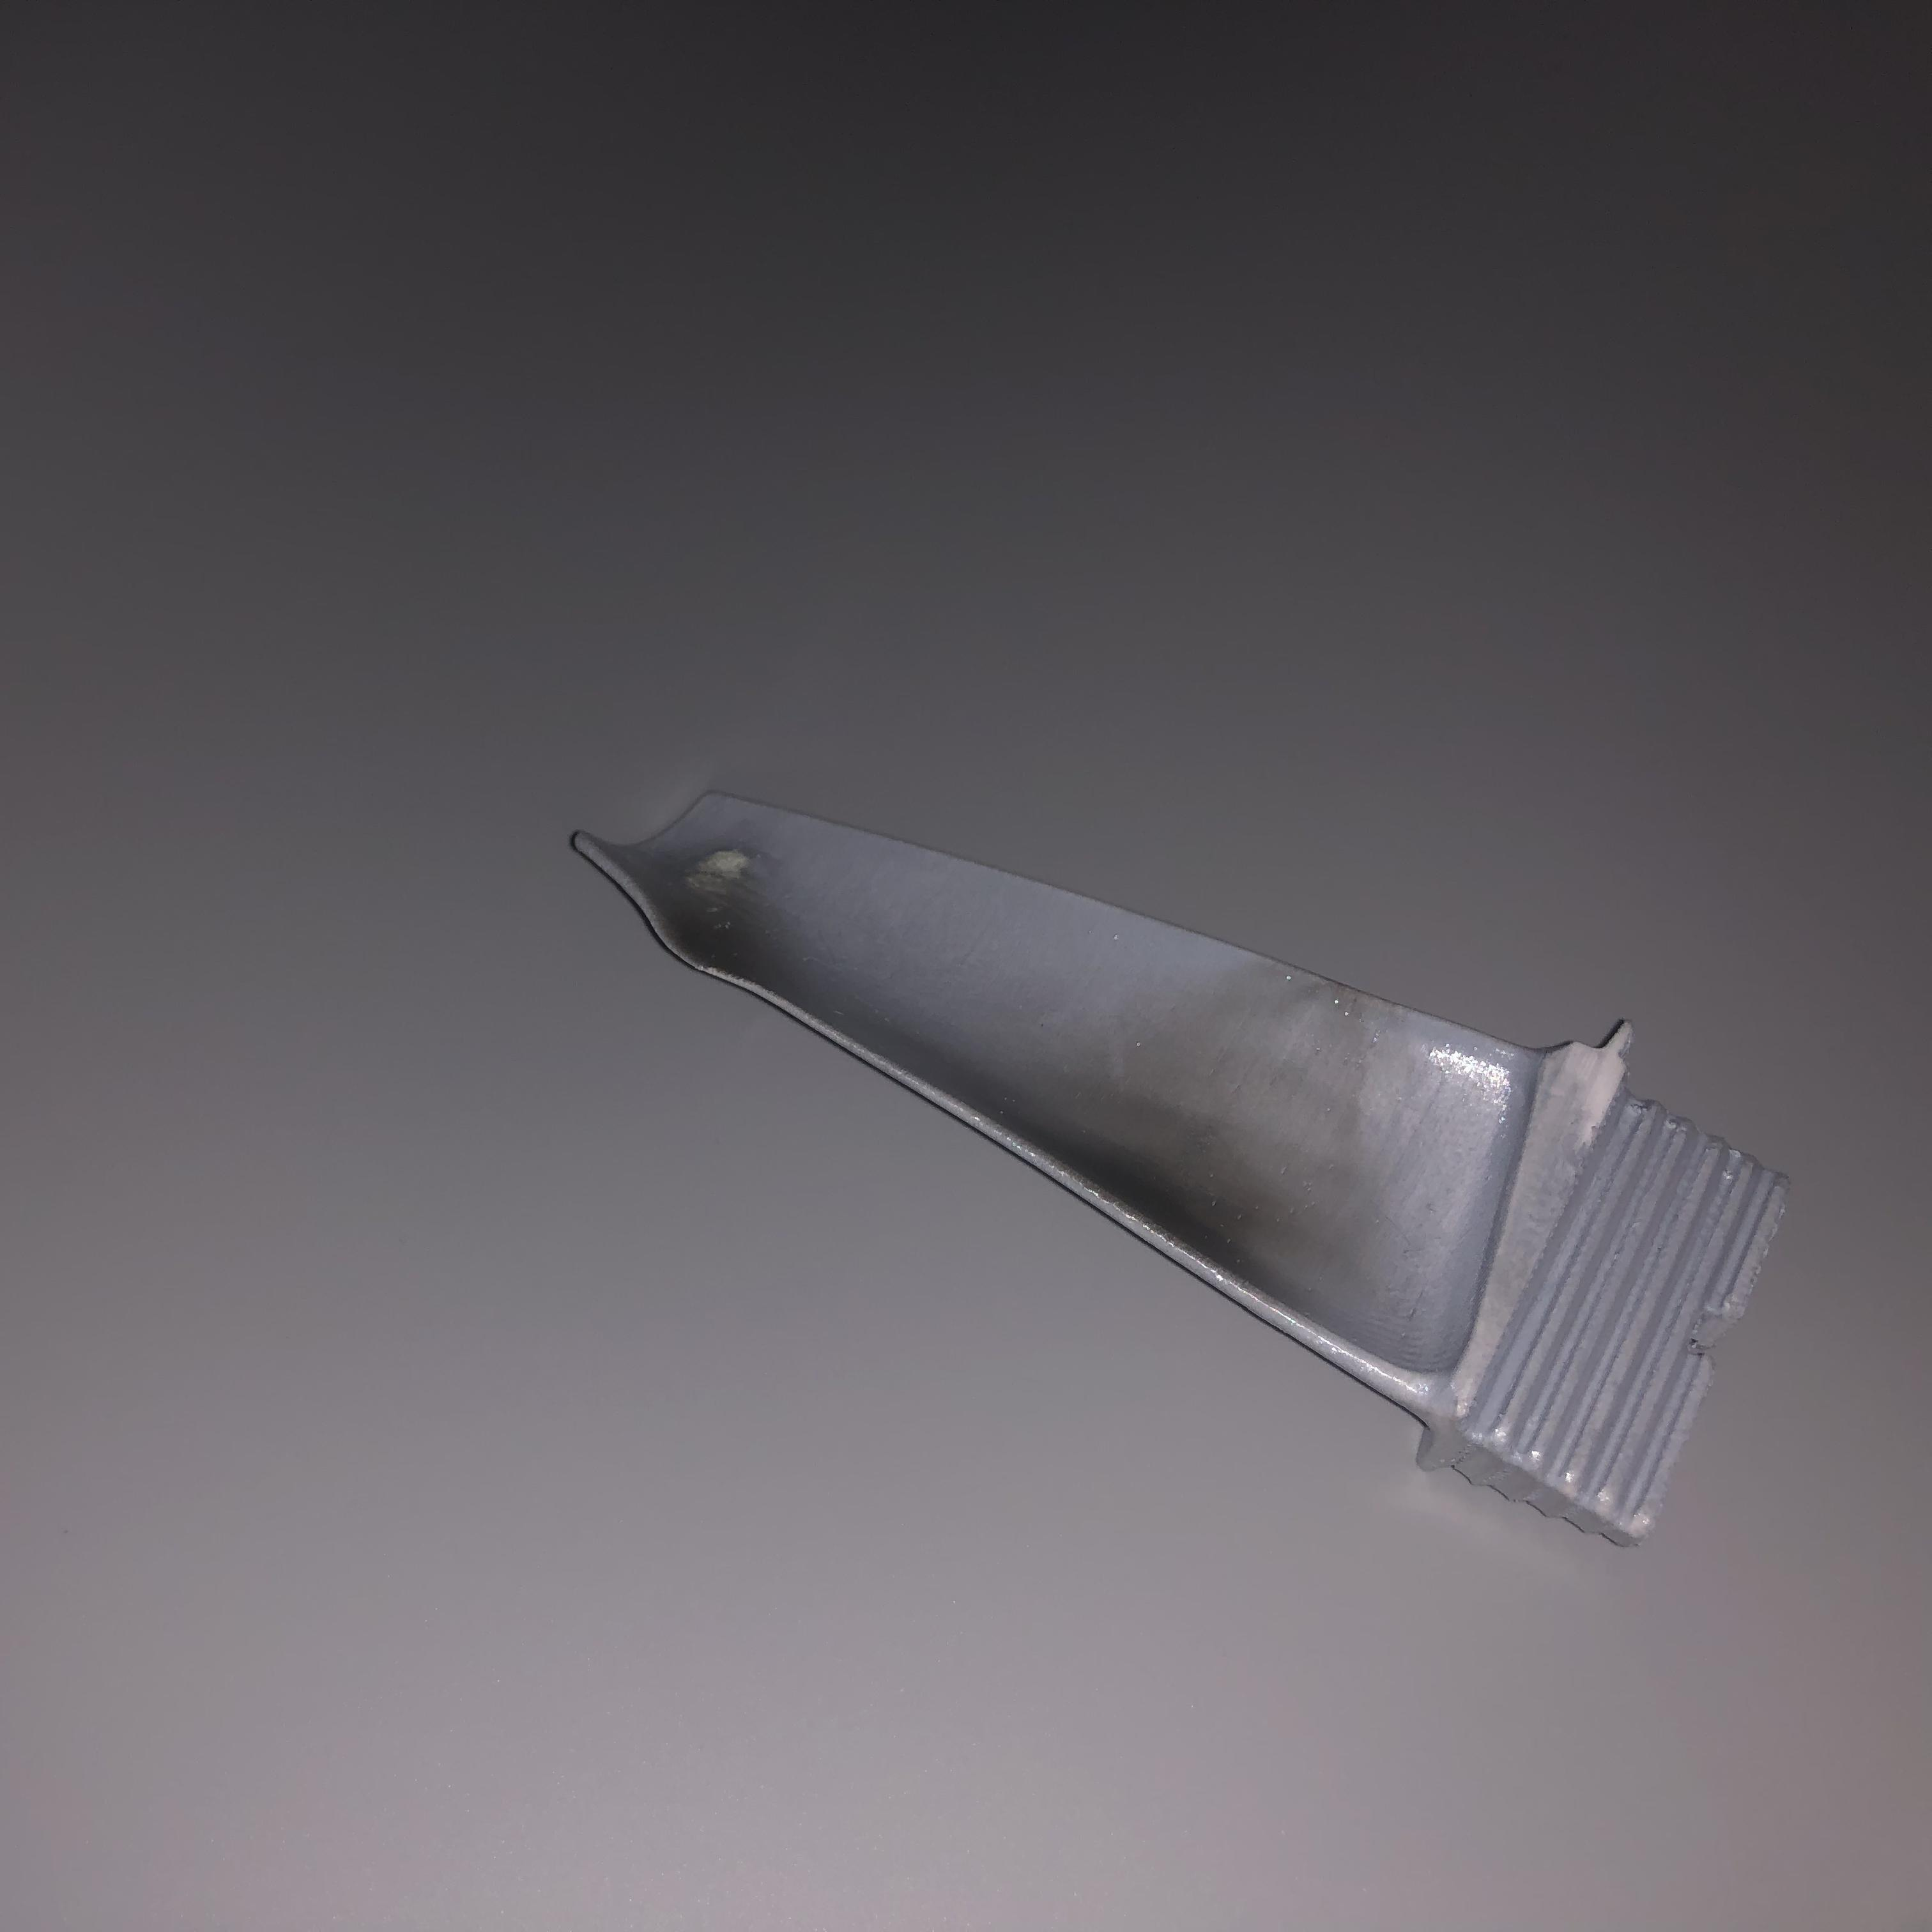ablation: (1115, 980, 1382, 1286), (635, 826, 786, 991)
